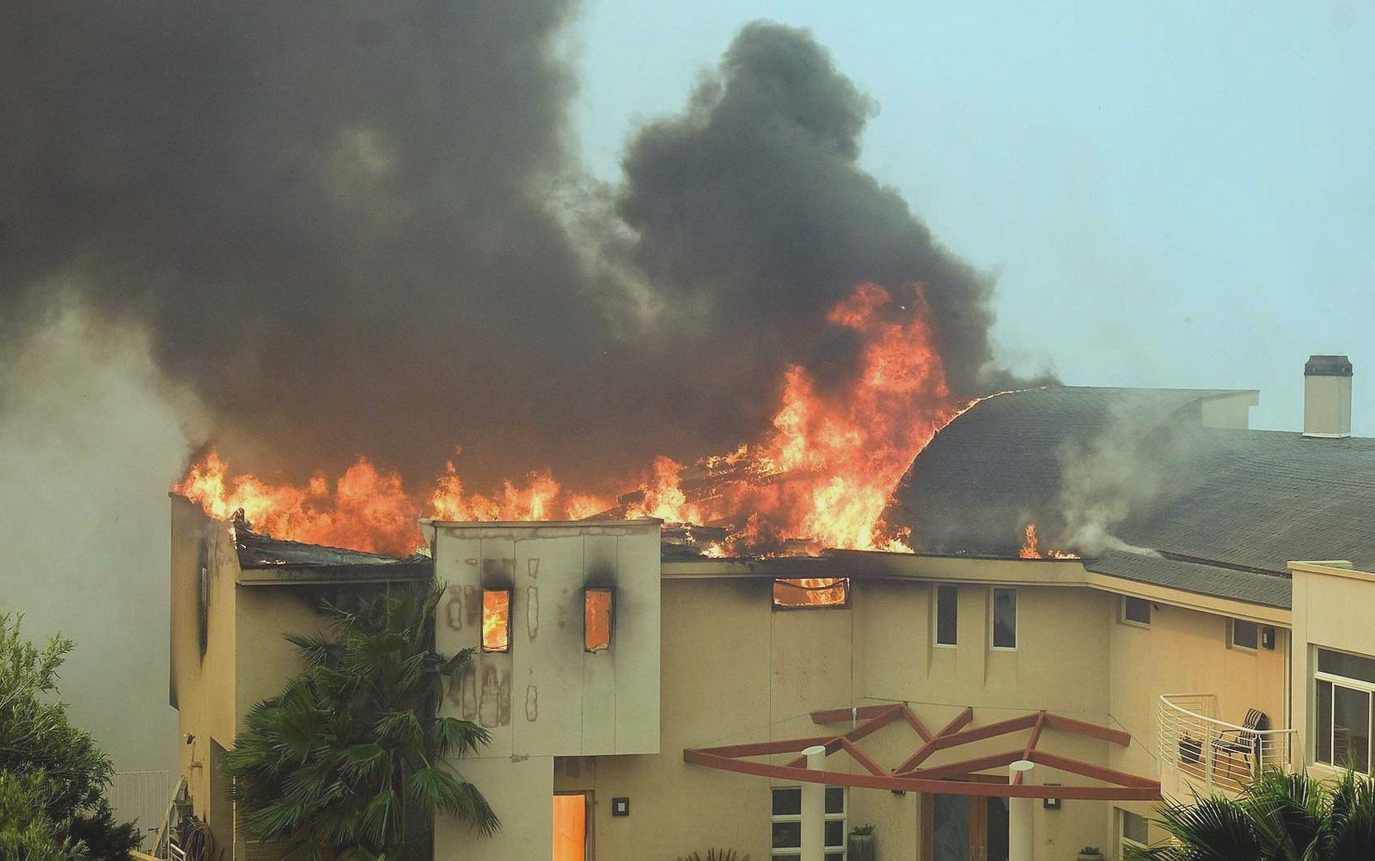fire: (183, 443, 931, 557), (768, 284, 944, 557), (777, 578, 841, 609), (1027, 522, 1073, 561), (485, 601, 508, 650)
